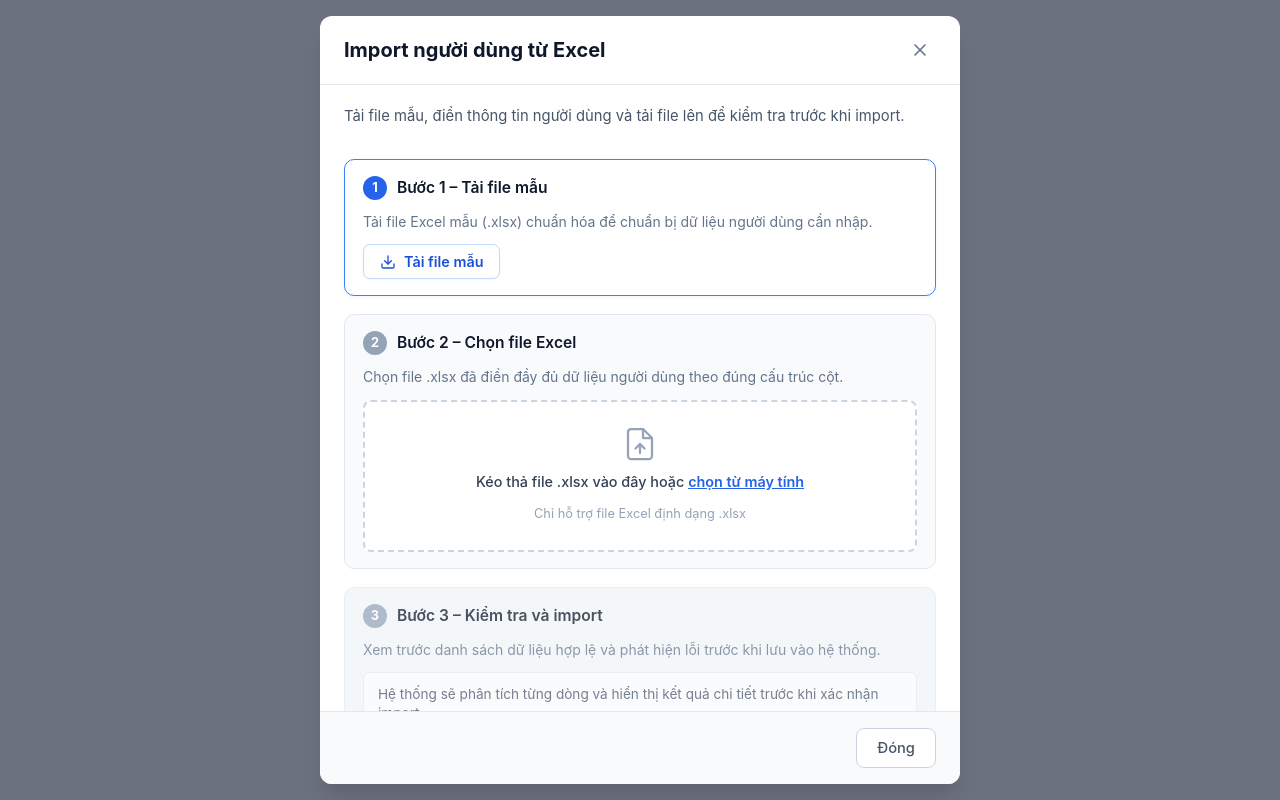
Scenario: SCRUM-119: Activity A6.1 - Bulk User Import Modal & Entry Point › 6. Hiển thị thông báo lỗi tiếng Việt khi API tải template thất bại (403/500)
Click the button with test id "btn-download-template" at (432, 262), box [363,244,500,280]
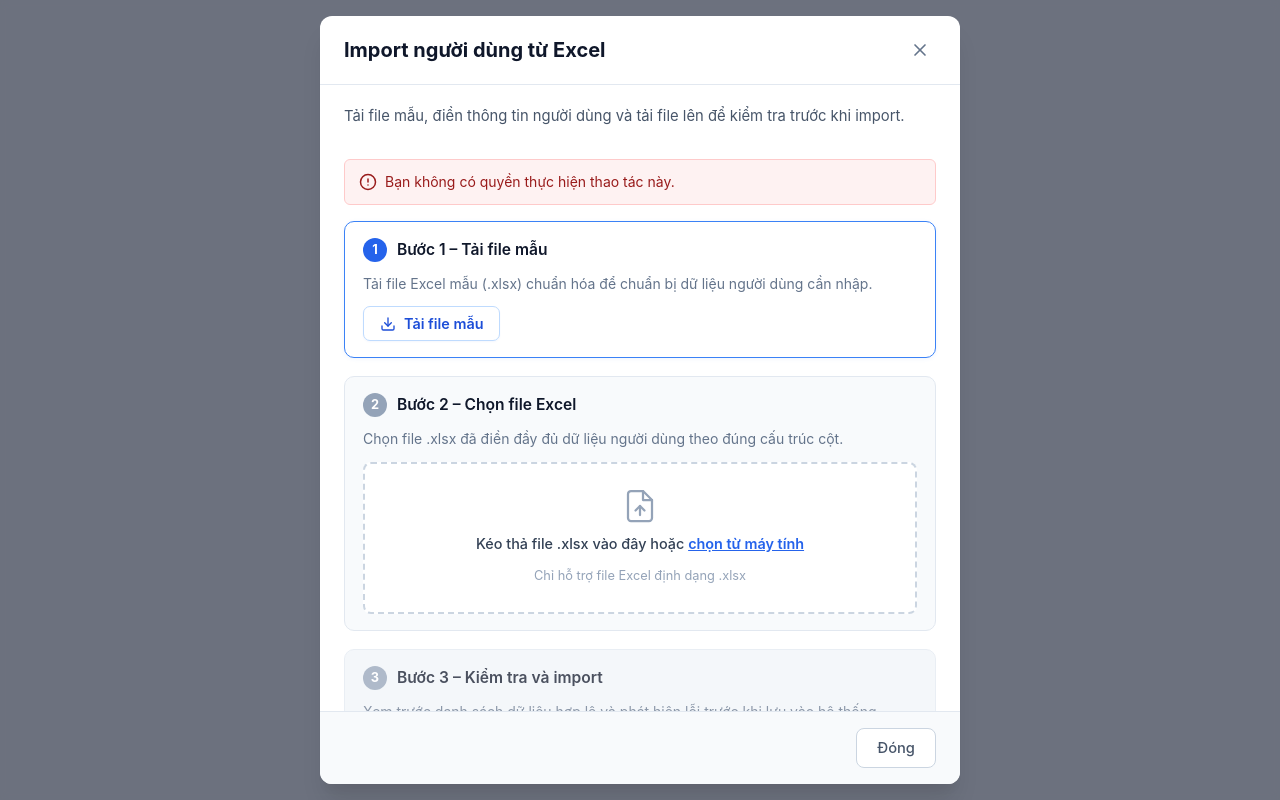
Expected: the button with test id "btn-download-template" is enabled, [363,306,500,342]
Expected: the message "Bạn không có quyền thực hiện thao tác này." is shown, [344,159,936,205]
Expected: the message with test id "import-error-banner" reads "Bạn không có quyền thực hiện thao tác này.", [385,173,675,190]
